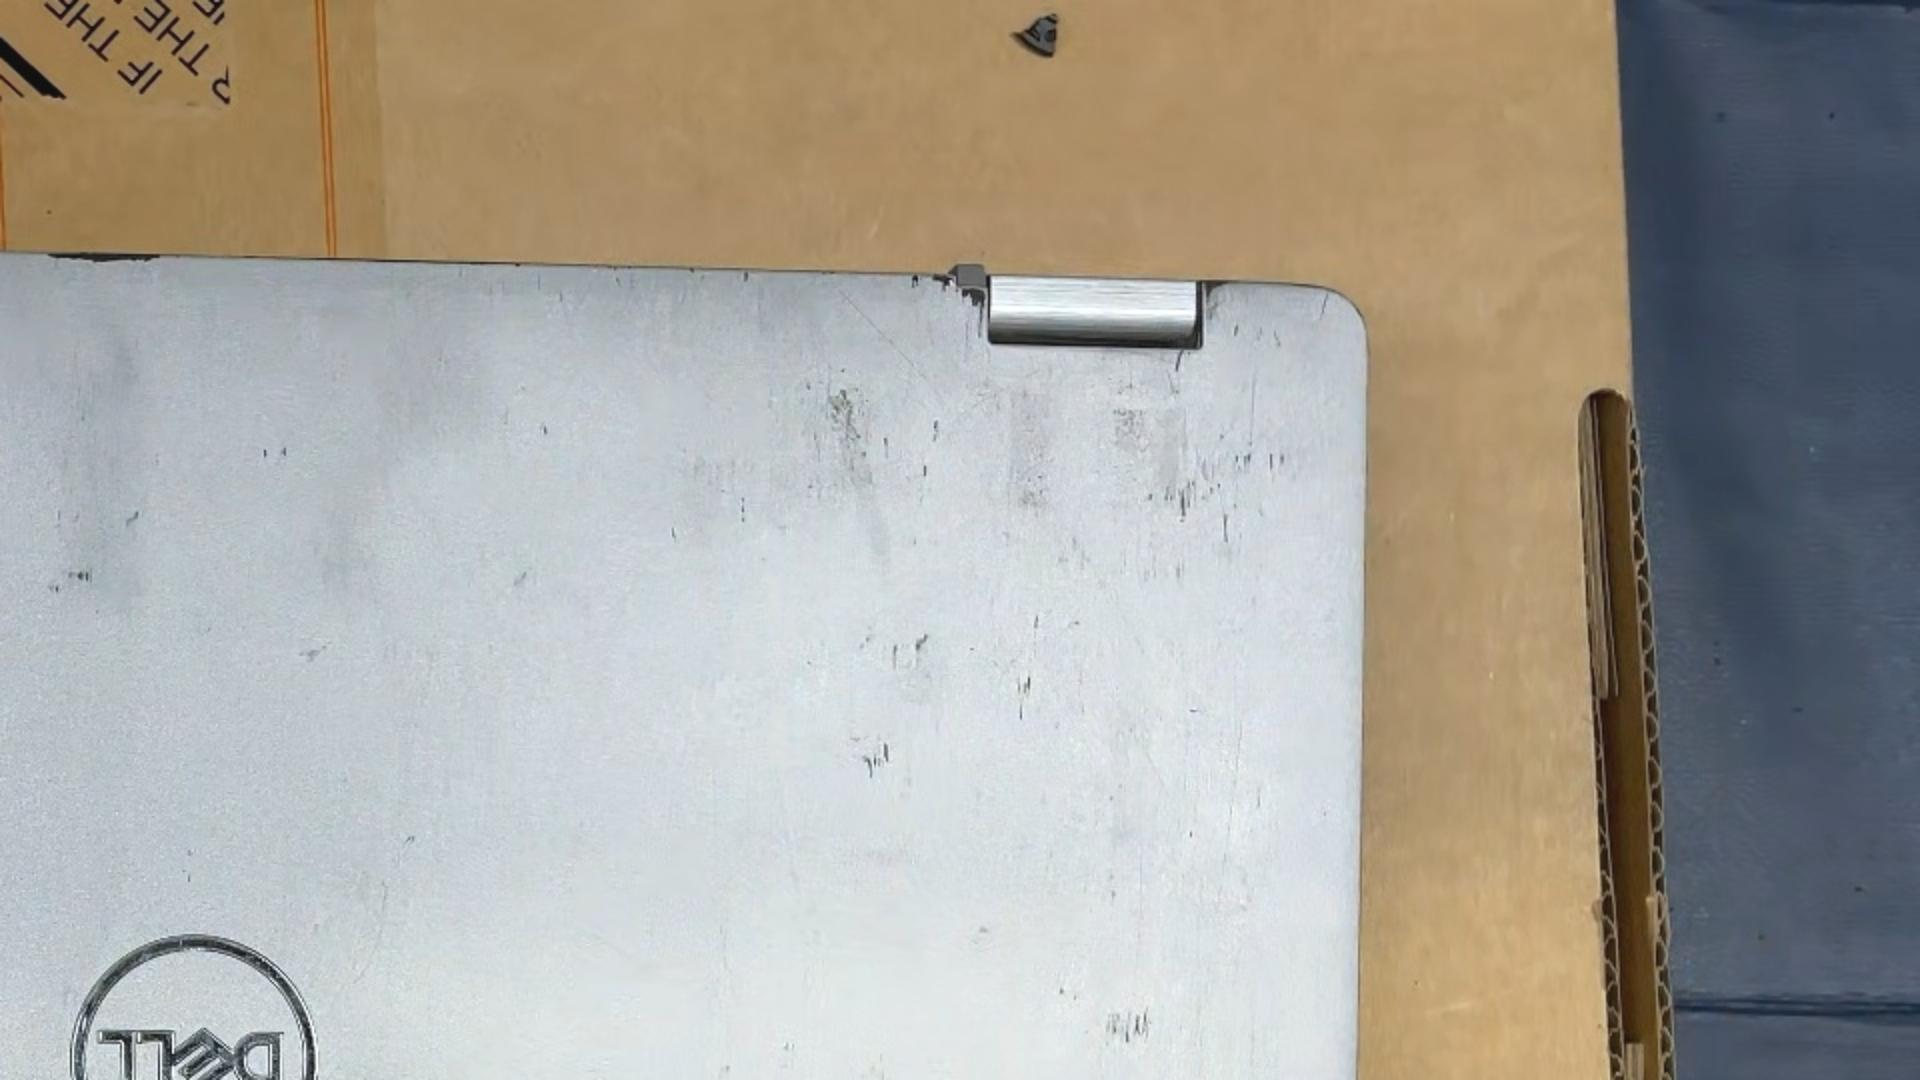chip: (960, 286, 986, 342), (46, 252, 162, 264), (1203, 281, 1232, 305), (931, 274, 956, 294), (910, 274, 920, 291)
scratches: (837, 287, 945, 398), (1216, 719, 1246, 899), (1249, 372, 1257, 450), (914, 632, 931, 653), (1174, 349, 1187, 376), (860, 753, 873, 779), (66, 570, 92, 583), (930, 414, 940, 444), (123, 510, 140, 529), (1319, 293, 1329, 320), (1180, 488, 1188, 518), (1222, 510, 1229, 545), (1273, 330, 1282, 347), (893, 644, 898, 673), (1244, 452, 1253, 468), (1133, 1014, 1141, 1033), (741, 493, 745, 526), (884, 740, 889, 764), (884, 436, 889, 459), (922, 462, 928, 479), (1125, 1022, 1130, 1043), (542, 423, 549, 438), (1233, 323, 1240, 336), (1033, 616, 1039, 629), (1019, 700, 1023, 721), (1143, 1010, 1149, 1026), (671, 526, 676, 541), (262, 446, 268, 460), (1269, 452, 1273, 471), (1017, 676, 1021, 694), (1027, 675, 1031, 692), (873, 753, 877, 769), (282, 446, 287, 458), (1147, 492, 1154, 501), (1280, 452, 1284, 467), (877, 756, 881, 769), (1059, 986, 1064, 996), (1236, 454, 1240, 463), (1217, 483, 1221, 491)
